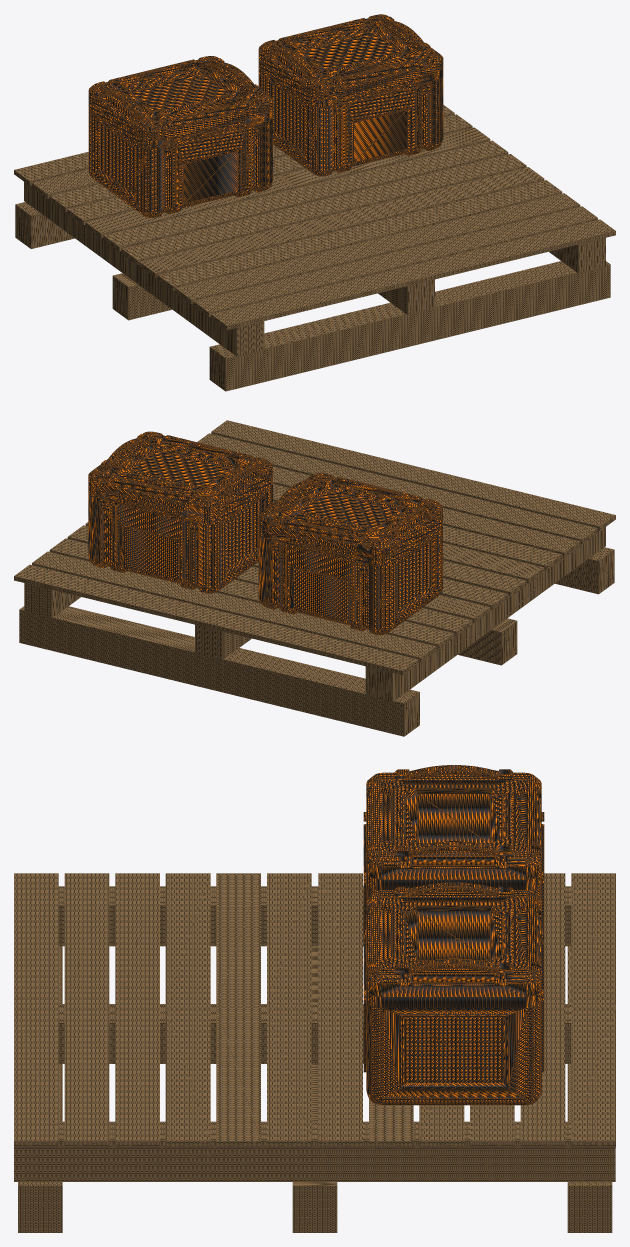
Rendered from Neoflycargo_hazardous_l_1.gltf.
The picture shows the model from 3 angles, top to bottom: view 1: azimuth 30°, elevation 25°; view 2: azimuth 150°, elevation 25°; view 3: azimuth 270°, elevation 25°; orthographic projection. The views are drawn at different scales.
Parts seen in each view (by area): view 1: Neoflycargo00, Sci-Fi_Case.001; view 2: Neoflycargo00, Sci-Fi_Case.001; view 3: Neoflycargo00, Sci-Fi_Case.001.
Boxes of the visible parts, box(x1,y1,x2,y2) form: Neoflycargo00: box(14, 105, 615, 391); Sci-Fi_Case.001: box(88, 14, 443, 217); Neoflycargo00: box(14, 420, 615, 736); Sci-Fi_Case.001: box(88, 431, 442, 635); Neoflycargo00: box(14, 873, 615, 1232); Sci-Fi_Case.001: box(363, 765, 544, 1105).
Bounding box in the file's own units: 1.28 × 0.531 × 1.22.
